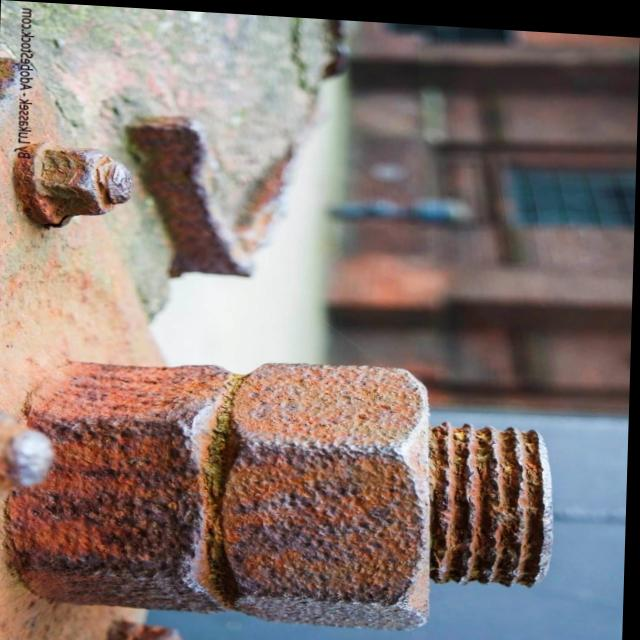Rusty bolt: (232, 354, 485, 629), (25, 357, 249, 612), (40, 147, 127, 218), (133, 619, 190, 640)
